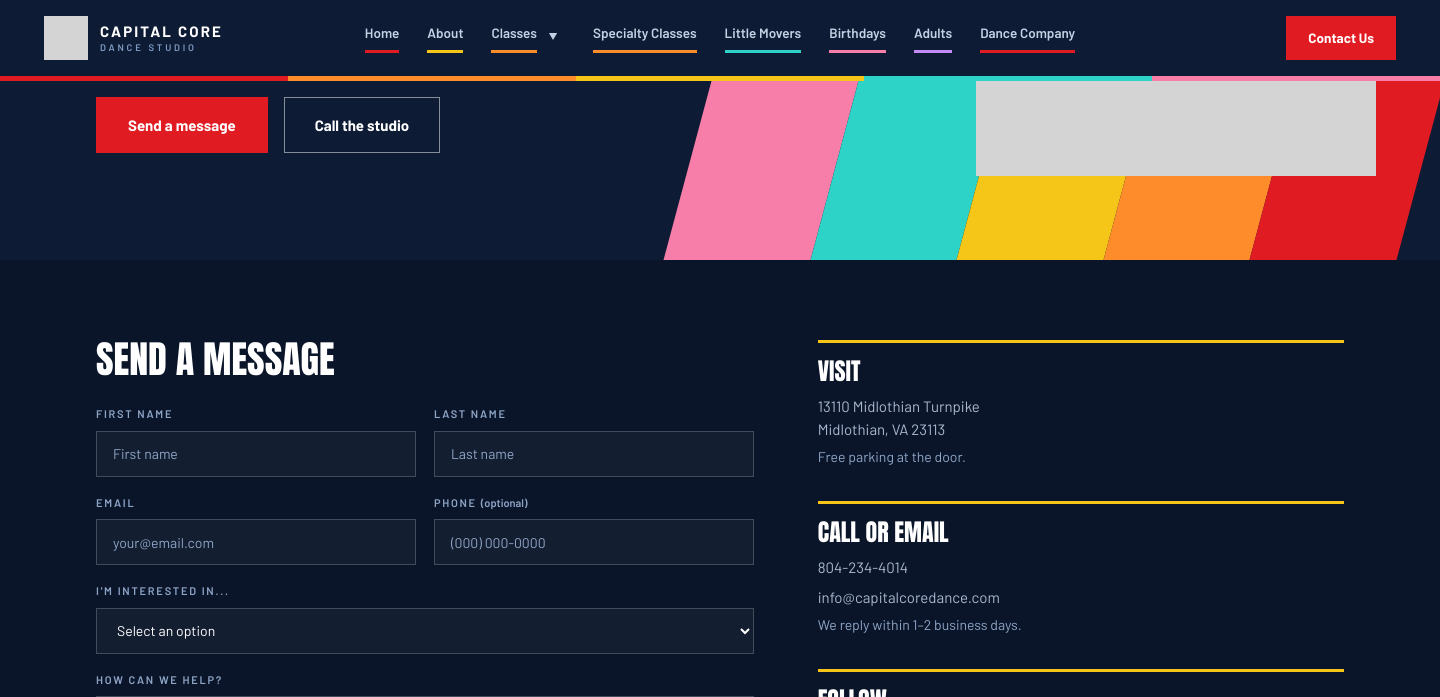
it: shows the error and the direct email address when sending fails
(page scrolled)
Type "Jane" into the field with placeholder "First Name" at point(256, 454), box [96,430,416,476]
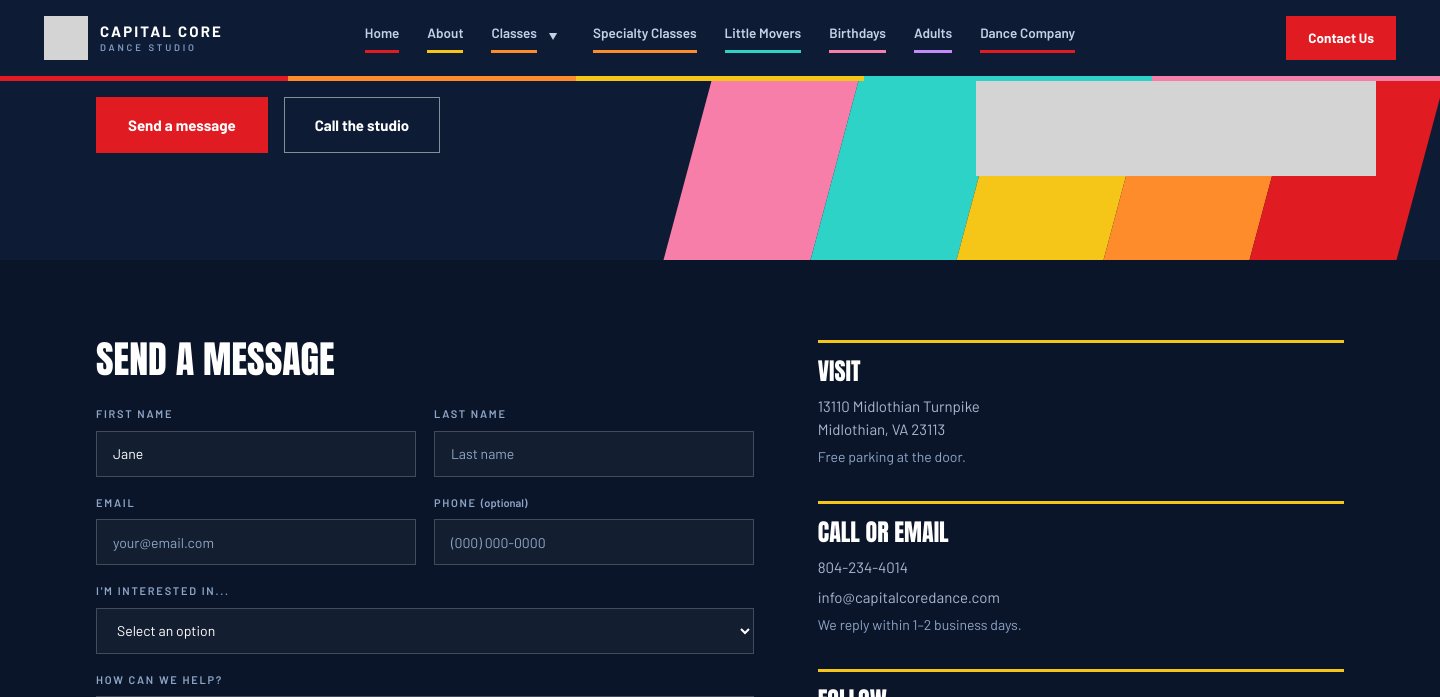
Type "Doe" into the field with placeholder "Last Name" at point(594, 454), box [434,430,754,476]
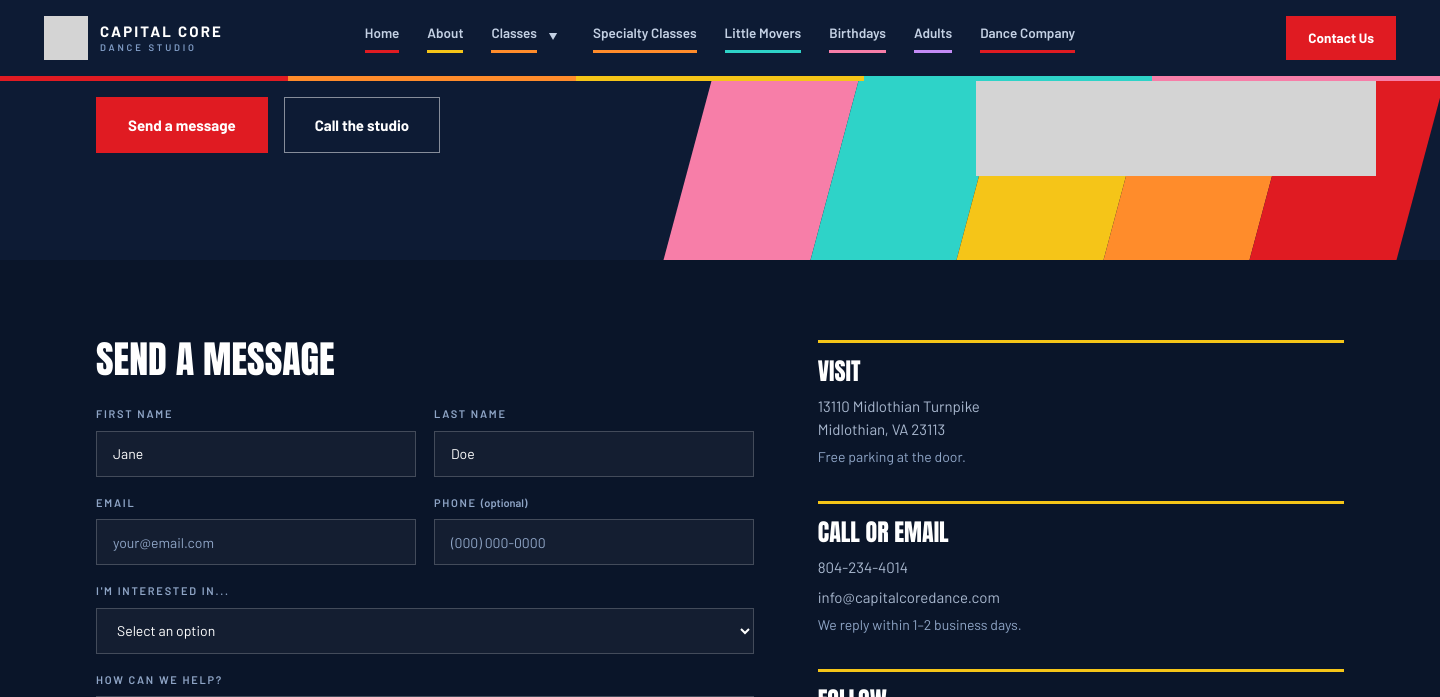
Type "jane@example.com" into the field with placeholder "your@email.com" at point(256, 542), box [96,519,416,565]
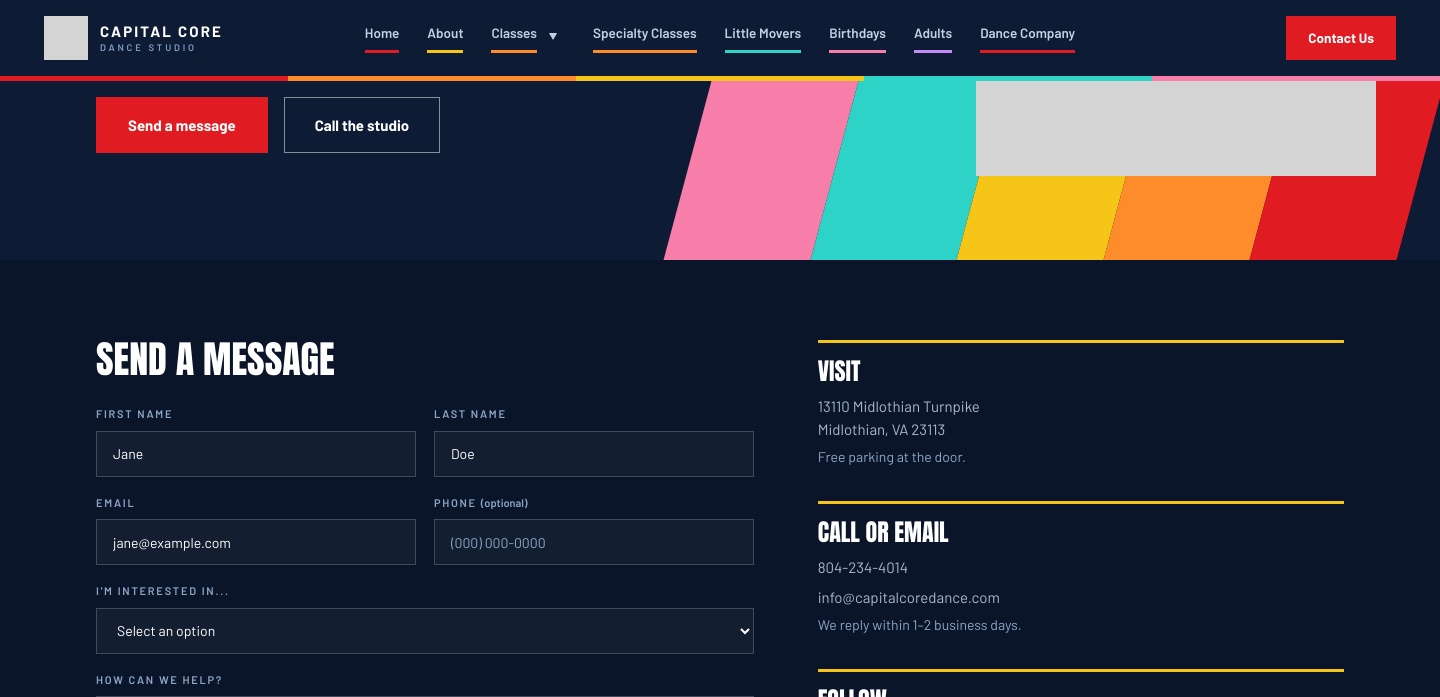
Type "8045551234" into the field with placeholder "(000) 000-0000" at point(594, 542), box [434,519,754,565]
(page scrolled)
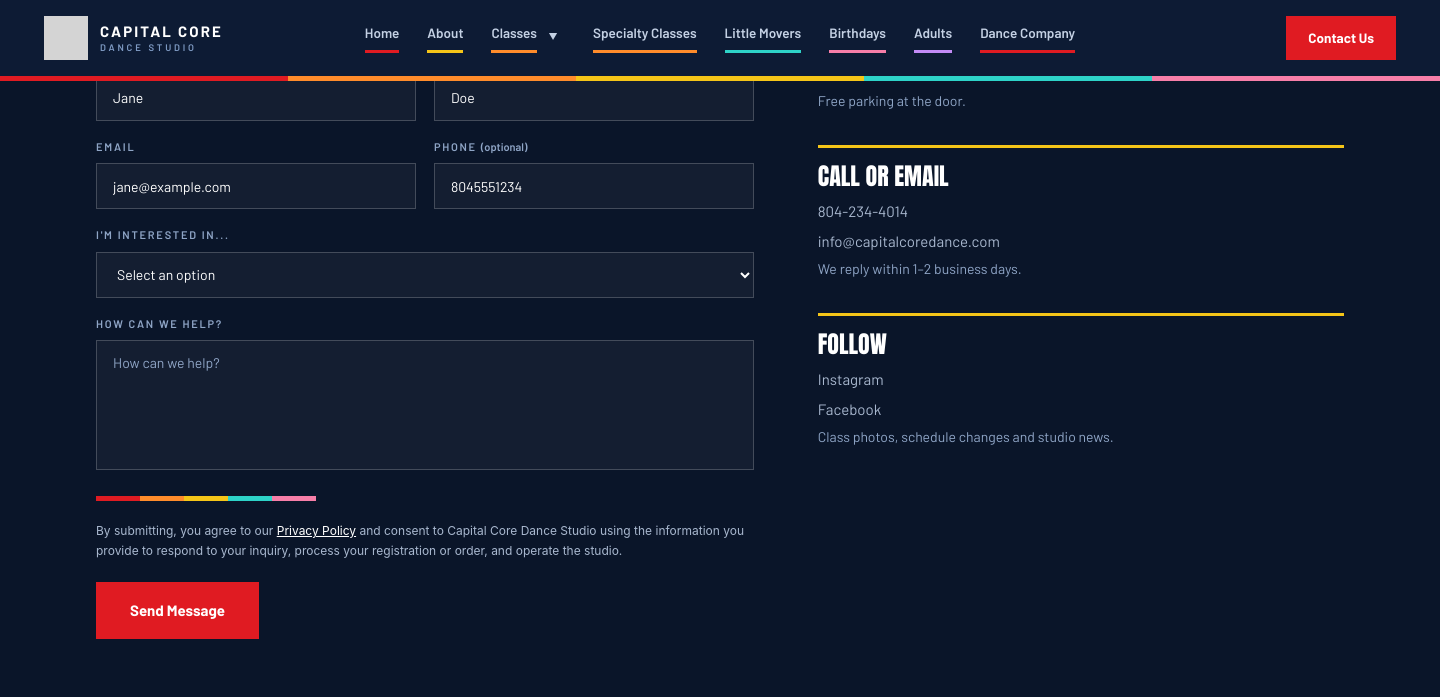
Type "Hello" into the text box with placeholder "How can we help?" at point(425, 405), box [96,340,754,470]
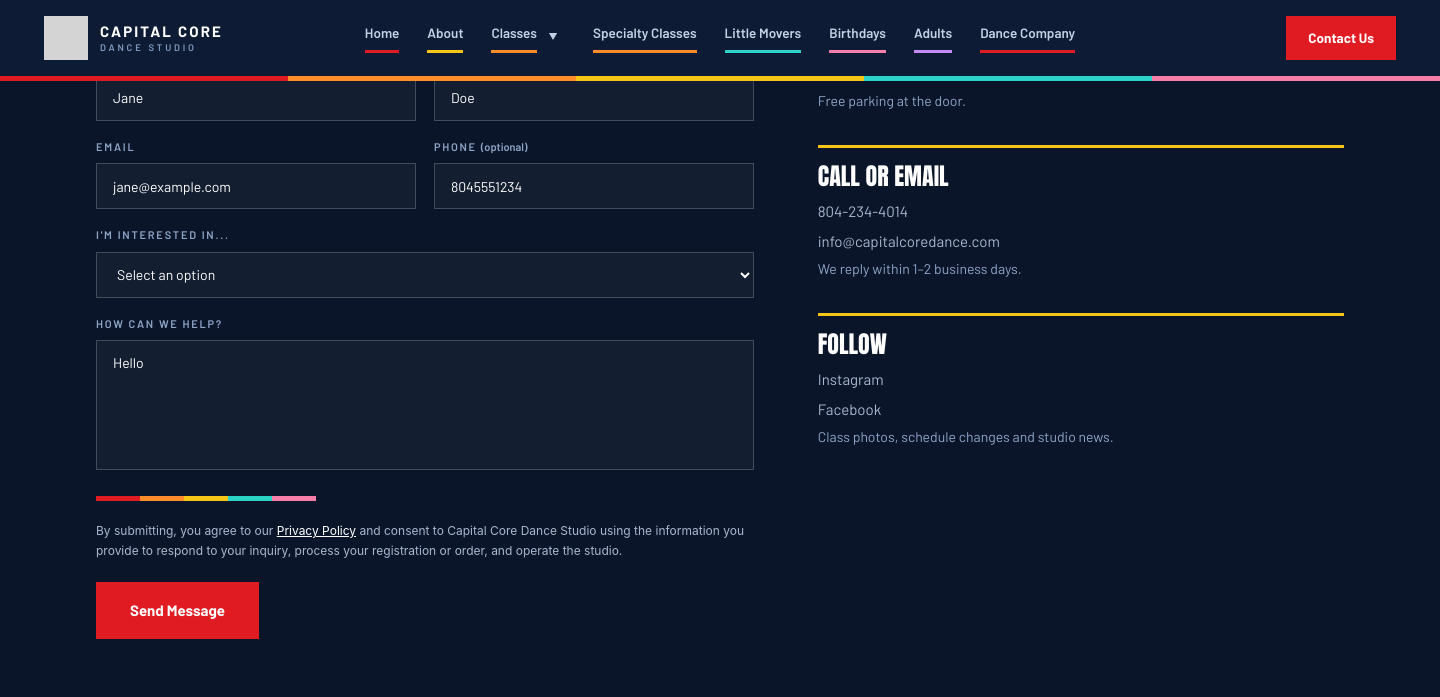
Click the button "Send Message" at point(178, 610), box [96,582,259,638]
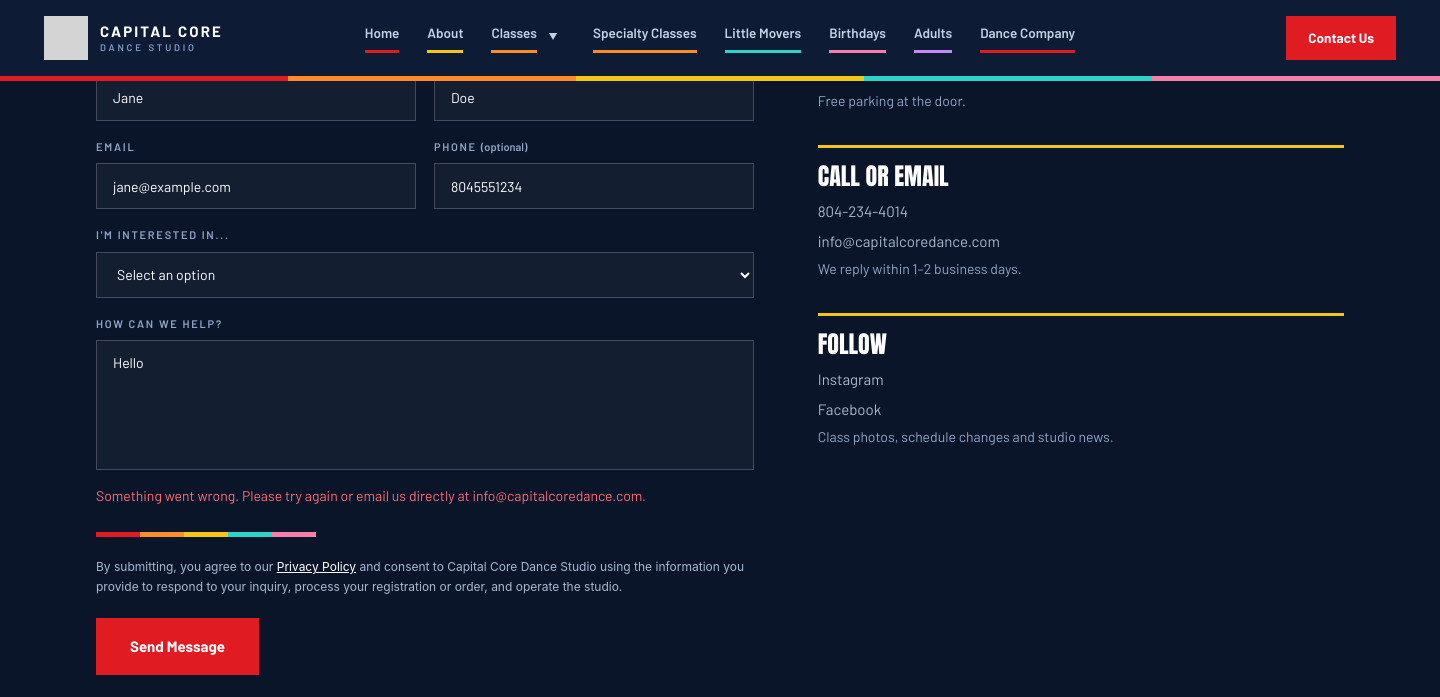
Check: the text "Something went wrong. Please try again or email us directly at info@capitalcoredance.com." is shown, box [96,487,646,504]
